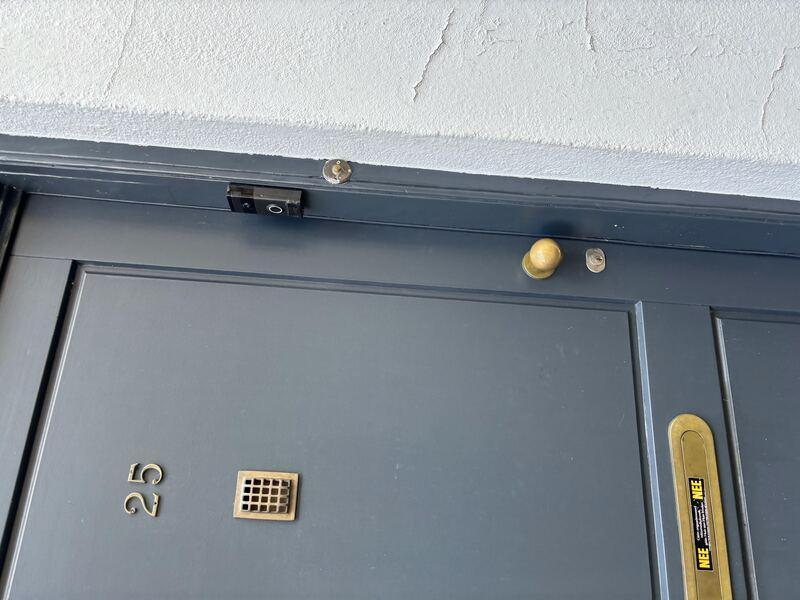doorbell: (377, 218, 418, 322)
